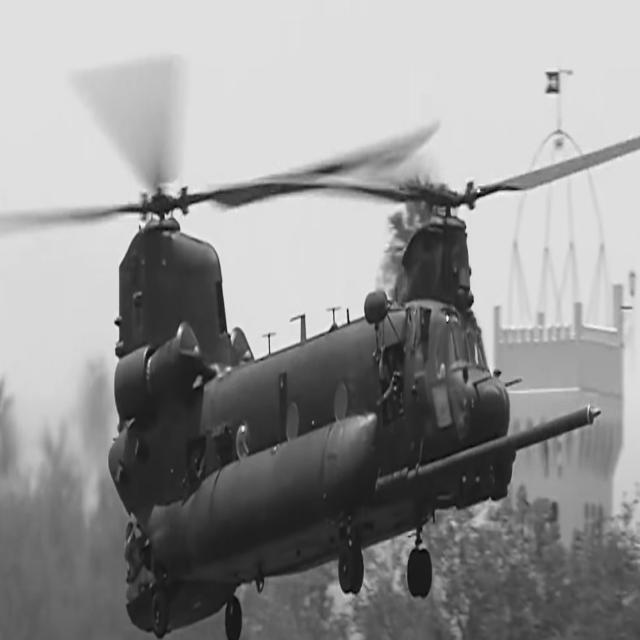Helicopter: (90, 71, 640, 639)
